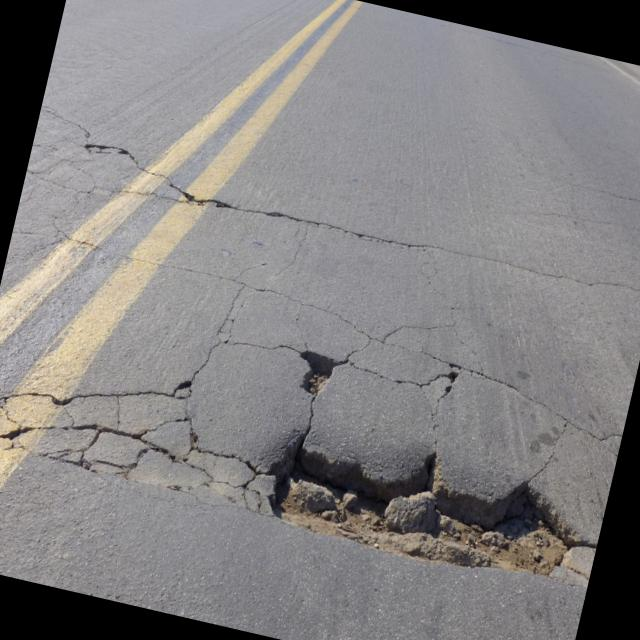Potholes: (247, 416, 608, 610), (286, 326, 362, 412)
